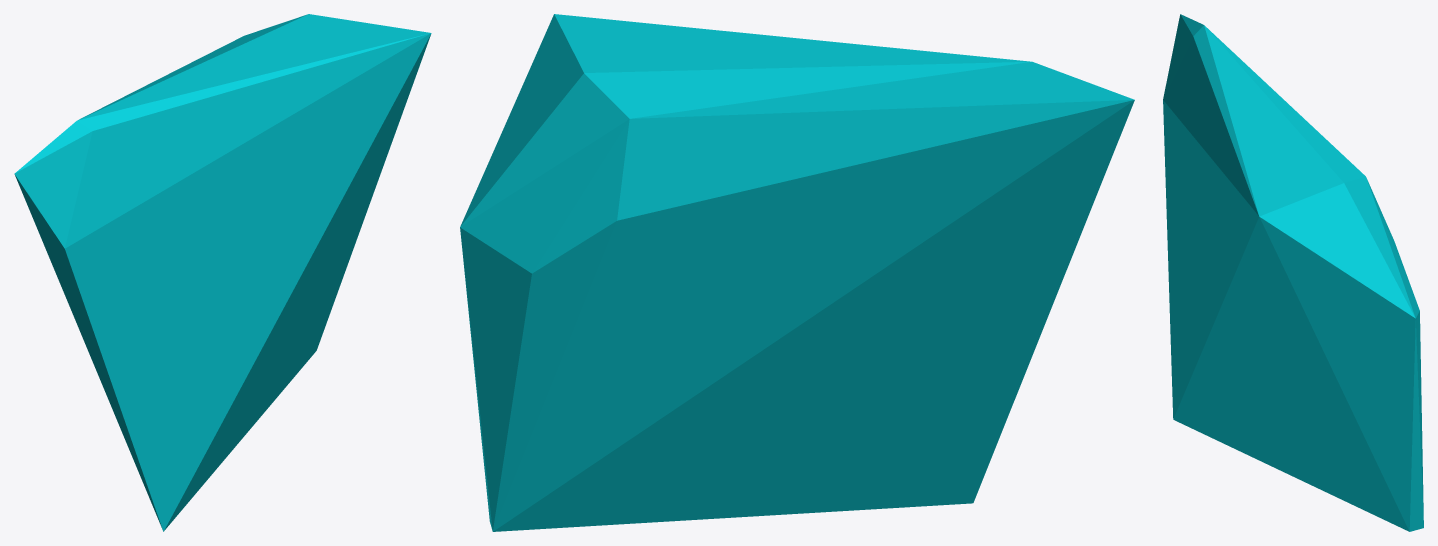
Rendered from arm-L4_convex_piece_017.obj.
3 renders of one model, left to right at view 1: azimuth 30°, elevation 25°; view 2: azimuth 150°, elevation 25°; view 3: azimuth 270°, elevation 25°, orthographic. The views are drawn at different scales.
Bounding box in the file's own units: 0.0434 × 0.0373 × 0.0242.
